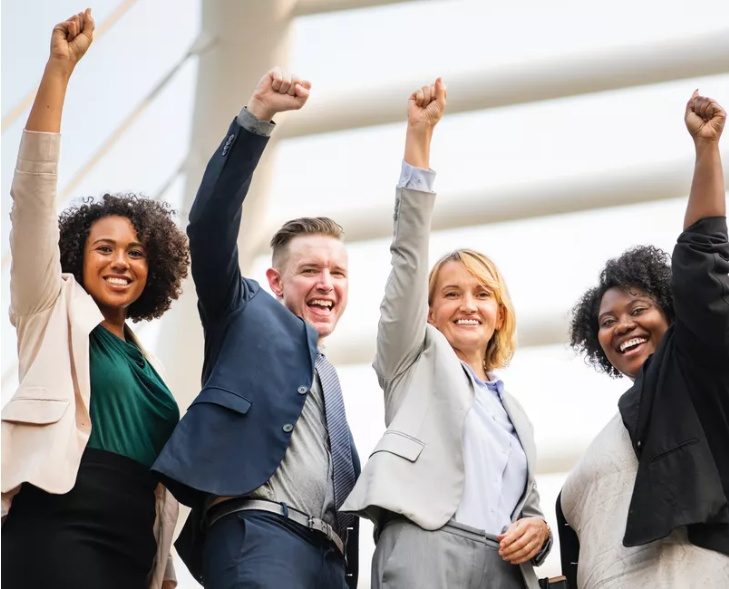face: (284, 235, 348, 335), (84, 216, 150, 308), (597, 286, 665, 375), (437, 262, 495, 348)
